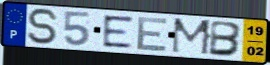5: (63, 10, 93, 48)
B: (207, 19, 244, 58)
E: (135, 16, 170, 53), (102, 14, 135, 49)
M: (170, 17, 215, 57)
S: (25, 7, 61, 46)
